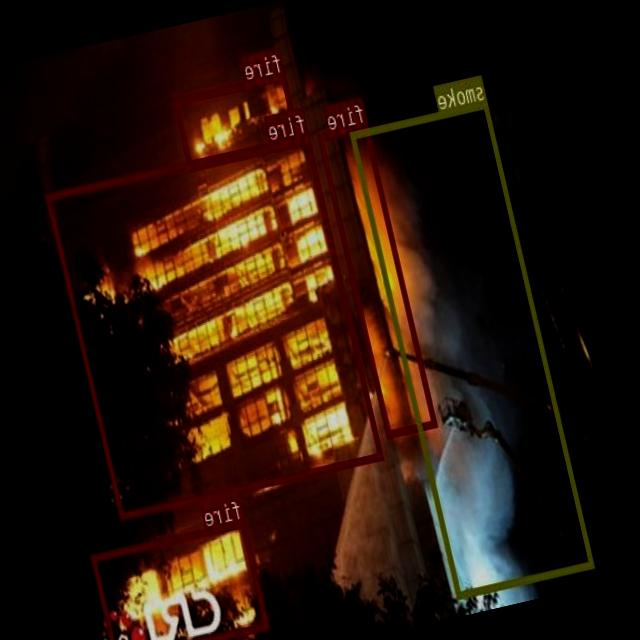fire: (46, 132, 384, 518), (318, 121, 438, 437), (91, 519, 270, 640), (172, 72, 302, 169)
smoke: (351, 99, 596, 597)
